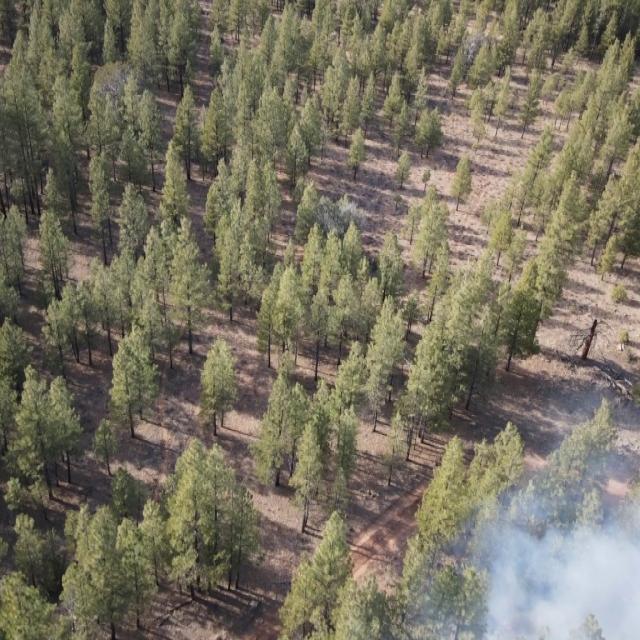smoke: (362, 371, 640, 640), (53, 590, 97, 640), (318, 195, 363, 241), (102, 66, 132, 109), (462, 31, 487, 70)
